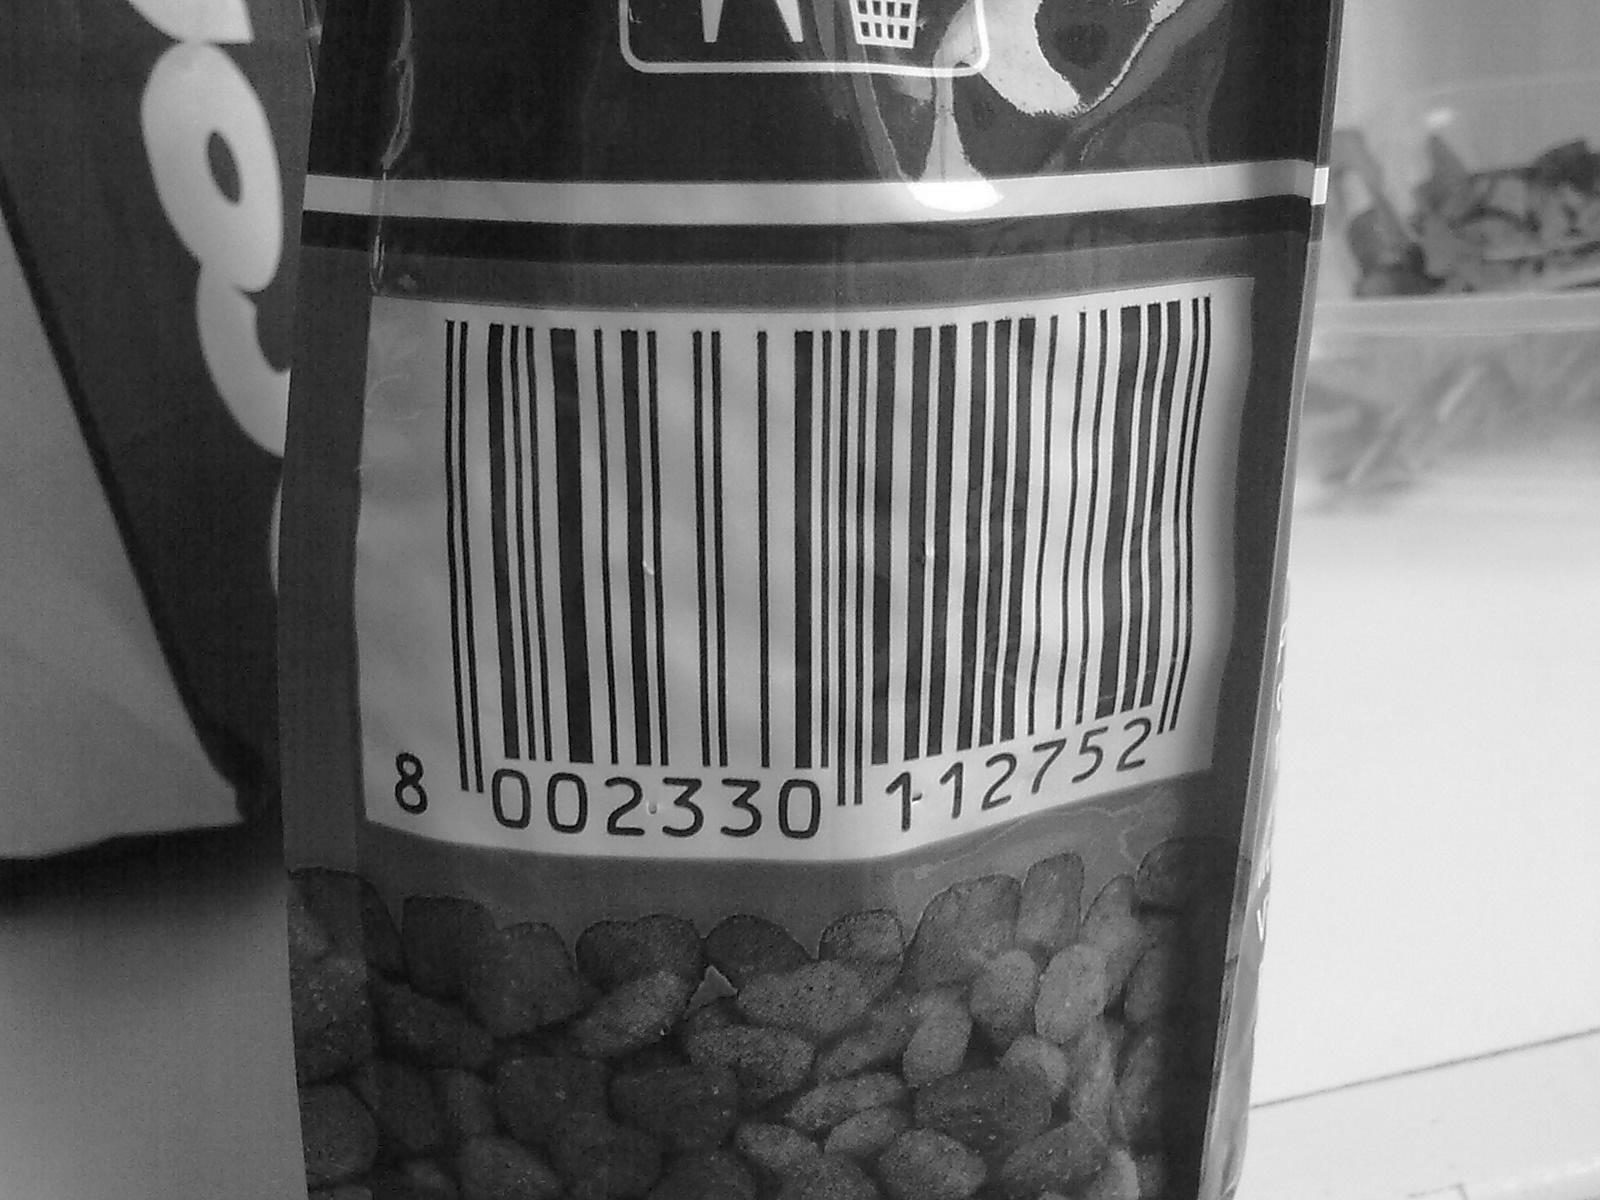Barcode: (409, 290, 1260, 848)
